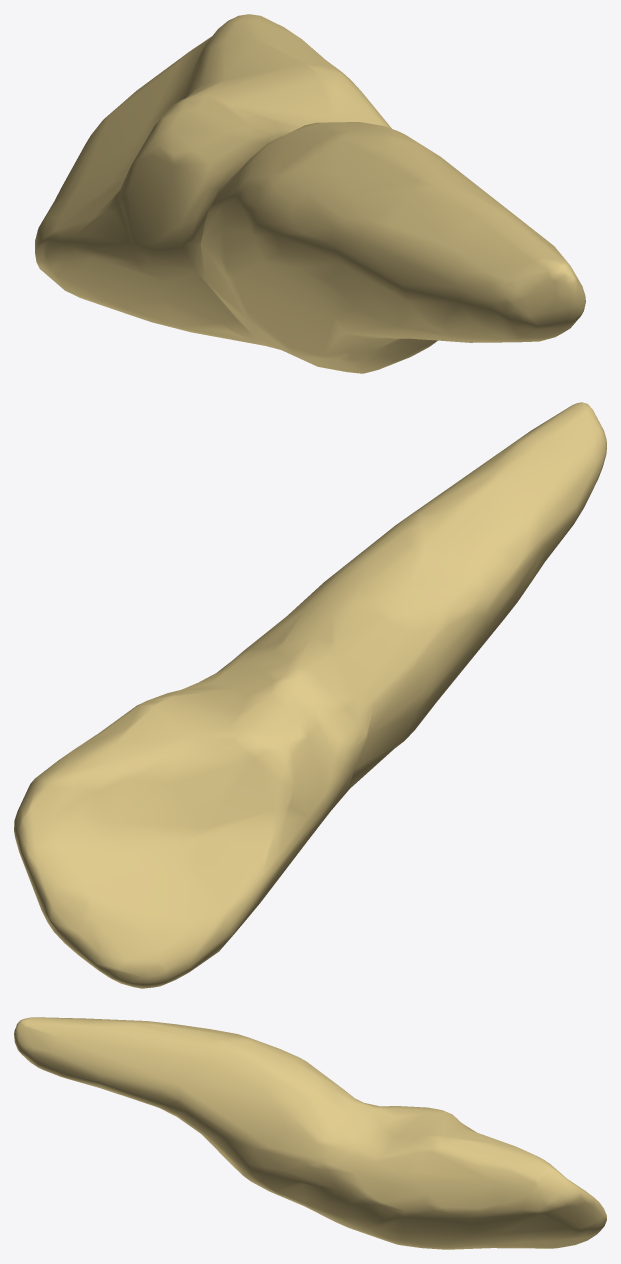
3 views of the same model, one above another, from view 1: azimuth 30°, elevation 25°; view 2: azimuth 150°, elevation 25°; view 3: azimuth 270°, elevation 25° (orthographic). The views are drawn at different scales.
Visible parts, largest first — view 1: 左侧上颌侧切牙; view 2: 左侧上颌侧切牙; view 3: 左侧上颌侧切牙.
Part boxes in pixels (left/top/right/bottom): 左侧上颌侧切牙: left=35, top=14, right=585, bottom=373; 左侧上颌侧切牙: left=14, top=402, right=606, bottom=988; 左侧上颌侧切牙: left=14, top=1017, right=606, bottom=1249.
Size of the model in its own units: 0.0138 by 0.0163 by 0.0416.
